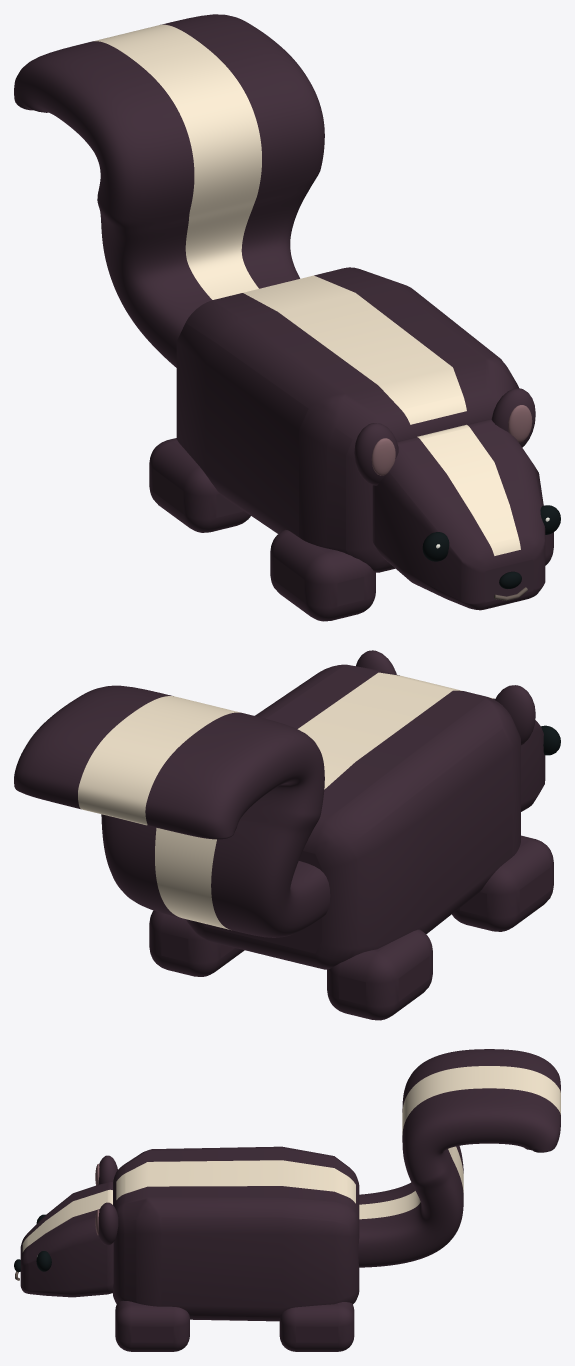
File: skunk.glb
3 renders of one model, top to bottom at view 1: azimuth 30°, elevation 25°; view 2: azimuth 150°, elevation 25°; view 3: azimuth 270°, elevation 25°, orthographic. The views are drawn at different scales.
Visible parts, largest first — view 1: Broad continuous lowered tail, Continuous striped body, Tapered striped head, Tucked foot.014, Tucked foot.015, Small round ear, Small round ear.001; view 2: Broad continuous lowered tail, Continuous striped body, Tucked foot.015, Tucked foot.014, Tucked foot.017, Tapered striped head, Small round ear, Small round ear.001, Living eye.006; view 3: Continuous striped body, Broad continuous lowered tail, Tapered striped head, Tucked foot.016, Tucked foot.017, Small round ear.001, Small round ear.
Part boxes in pixels (x1,y1,x2,y2): Broad continuous lowered tail: (14, 14, 324, 367); Continuous striped body: (176, 267, 518, 572); Tapered striped head: (372, 419, 545, 610); Tucked foot.014: (270, 529, 375, 621); Tucked foot.015: (149, 438, 250, 532); Small round ear: (354, 423, 398, 485); Small round ear.001: (491, 388, 535, 447); Broad continuous lowered tail: (14, 685, 330, 937); Continuous striped body: (186, 664, 520, 969); Tucked foot.015: (327, 929, 432, 1020); Tucked foot.014: (452, 835, 553, 931); Tucked foot.017: (149, 910, 244, 976); Tapered striped head: (489, 697, 545, 811); Small round ear: (495, 685, 535, 745); Small round ear.001: (356, 650, 396, 674); Living eye.006: (541, 725, 560, 755); Continuous striped body: (112, 1146, 359, 1321); Broad continuous lowered tail: (358, 1049, 560, 1267); Tapered striped head: (20, 1182, 113, 1297); Tucked foot.016: (115, 1301, 189, 1351); Tucked foot.017: (279, 1302, 354, 1351); Small round ear.001: (98, 1202, 118, 1245); Small round ear: (98, 1155, 117, 1184).
Size of the model in its own units: 1.4 by 1.91 by 3.95.
